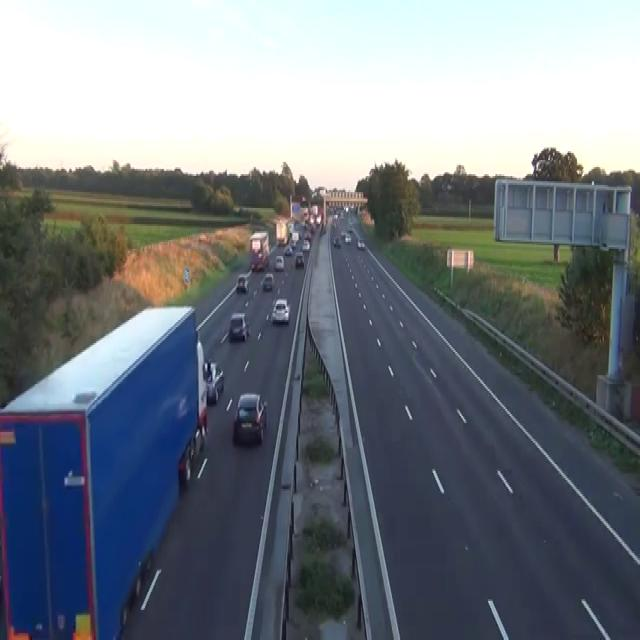Car: (232, 393, 267, 444), (178, 425, 203, 483), (203, 359, 224, 404), (229, 311, 250, 341), (178, 441, 192, 483), (270, 297, 290, 323), (261, 272, 274, 290), (236, 274, 248, 292), (274, 254, 284, 270), (295, 252, 304, 266), (301, 238, 310, 251), (283, 244, 292, 256), (332, 235, 340, 247), (319, 222, 326, 235), (357, 238, 365, 249), (344, 233, 351, 243), (347, 218, 353, 228), (304, 230, 311, 238), (316, 215, 321, 224), (290, 240, 295, 249), (340, 230, 345, 238), (343, 204, 348, 212), (339, 210, 344, 218), (333, 212, 338, 218)
Truck: (0, 304, 208, 638), (249, 230, 269, 270), (275, 220, 288, 246)
